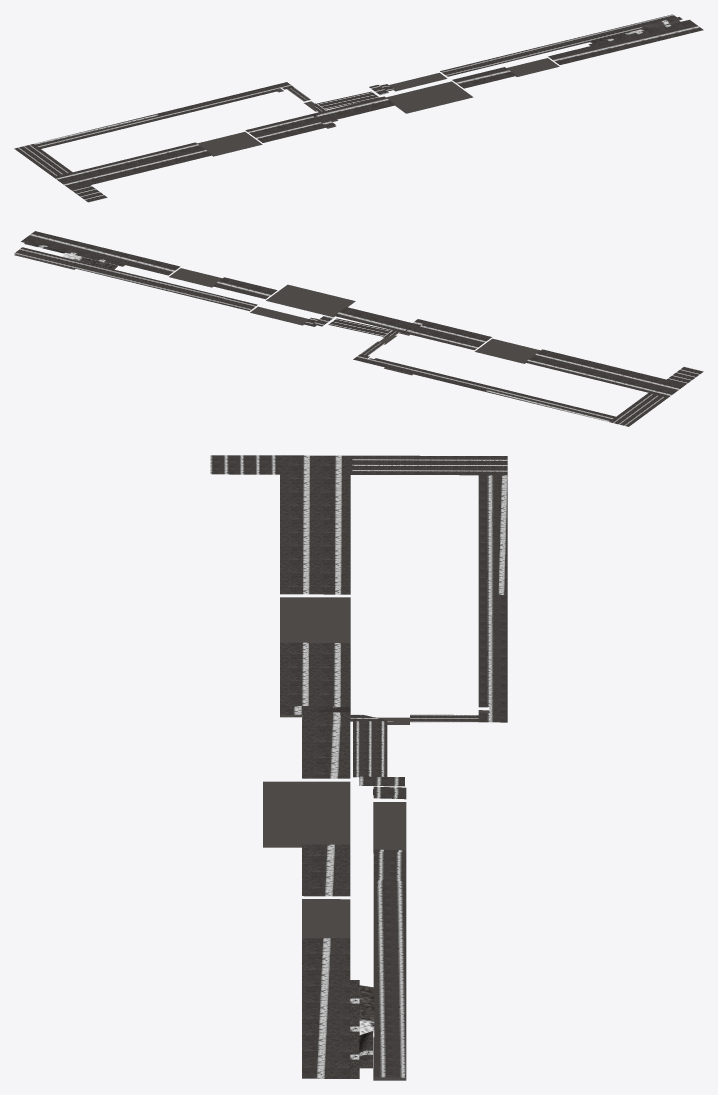
Rendered from road.obj.
3 views of the same model, one above another, from view 1: azimuth 30°, elevation 25°; view 2: azimuth 150°, elevation 25°; view 3: azimuth 270°, elevation 25° (orthographic). The views are drawn at different scales.
Visible parts, largest first — view 1: decor.001_Cube.005; view 2: decor.001_Cube.005; view 3: decor.001_Cube.005.
Boxes of the visible parts, x1,y1,x2,y2 form: decor.001_Cube.005: [14, 14, 703, 202]; decor.001_Cube.005: [14, 231, 703, 426]; decor.001_Cube.005: [210, 455, 507, 1080].
Bounding box in the file's own units: 17042 × 140 × 3435.
Materials: 1 (1 with a texture image).
